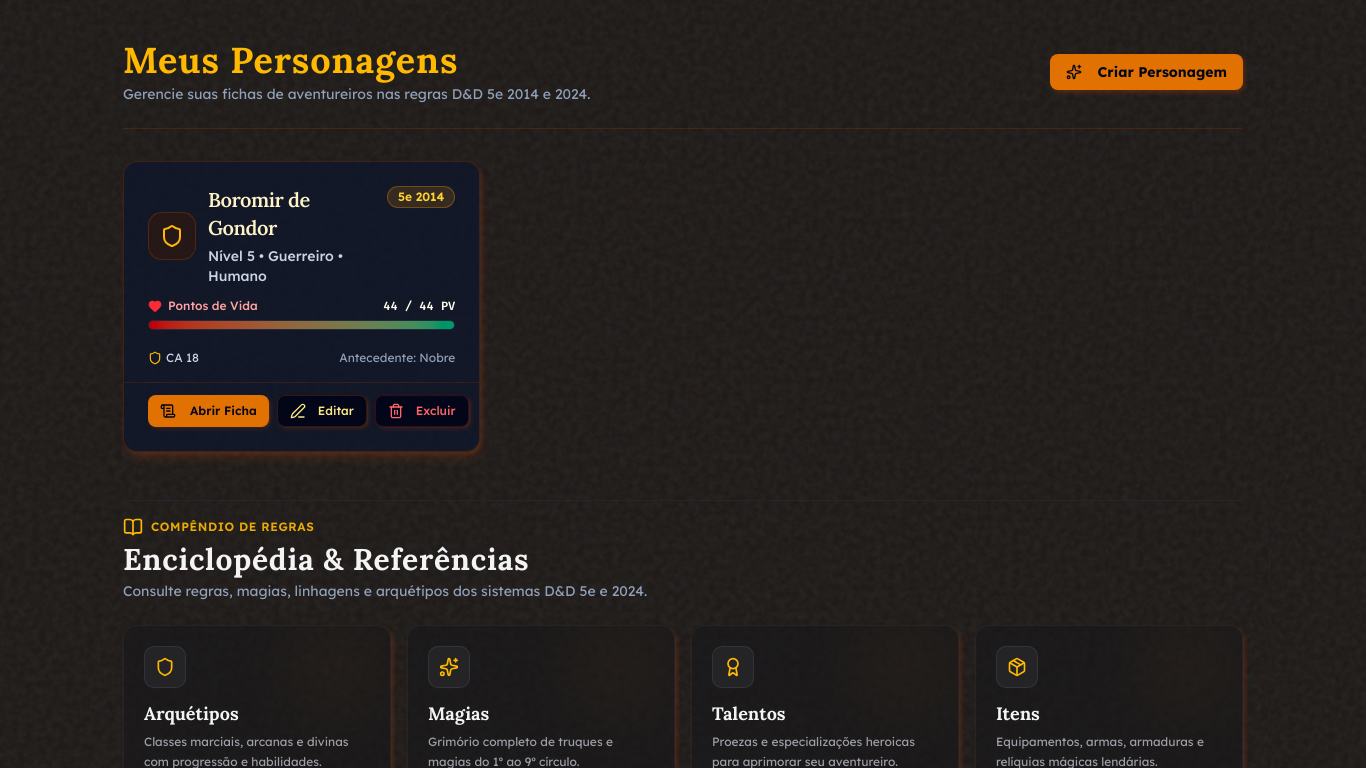
Test case: TP-03: Character List, Delete Confirmation Modal & Edit Page › renders character card grid from API and invokes DELETE /api/characters/{id} upon modal confirmation
This screenshot has width=1366, height=768.
Later steps or results of the test are not shown.
Expected: the text "Boromir de Gondor" is shown, [208,187,310,240]
Expected: the text "44 / 44 PV" is shown, [383,298,455,314]
# Click Excluir button on card
Click the button with aria-label "Excluir Boromir de Gondor".
click(422, 411)  # box [375,395,468,427]
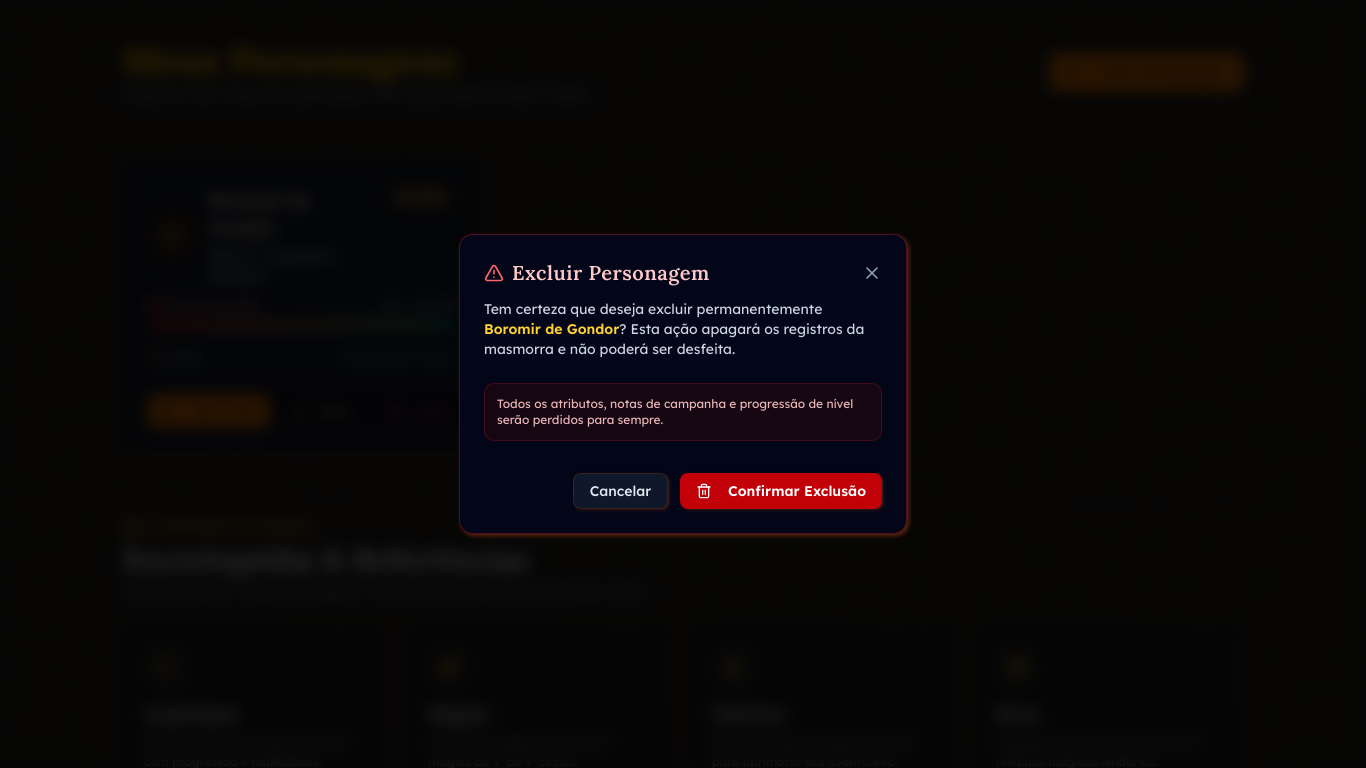
Now the dialog is shown
